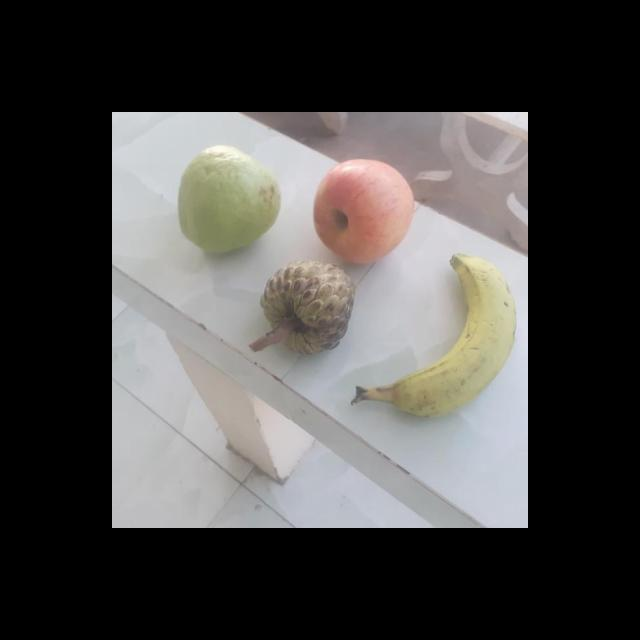Sakya fruit: (254, 260, 354, 358)
apple: (308, 157, 419, 260)
banana: (358, 251, 516, 420)
guava: (175, 146, 276, 254)
